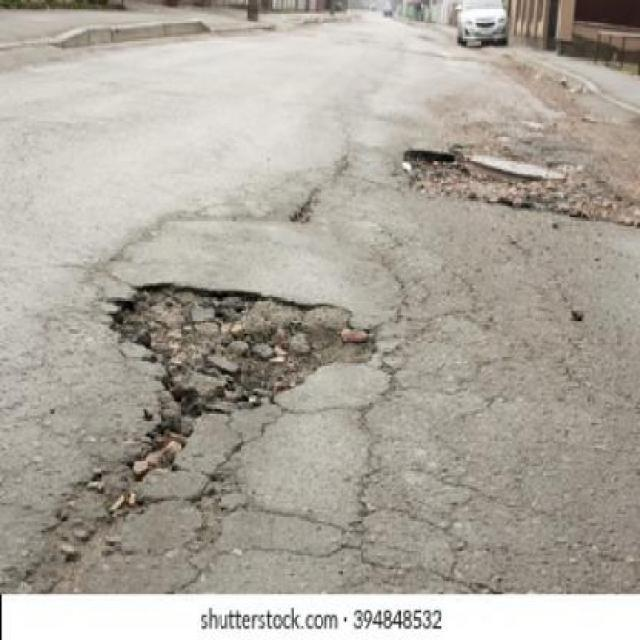Pothole: (112, 284, 372, 418), (402, 149, 640, 227)
